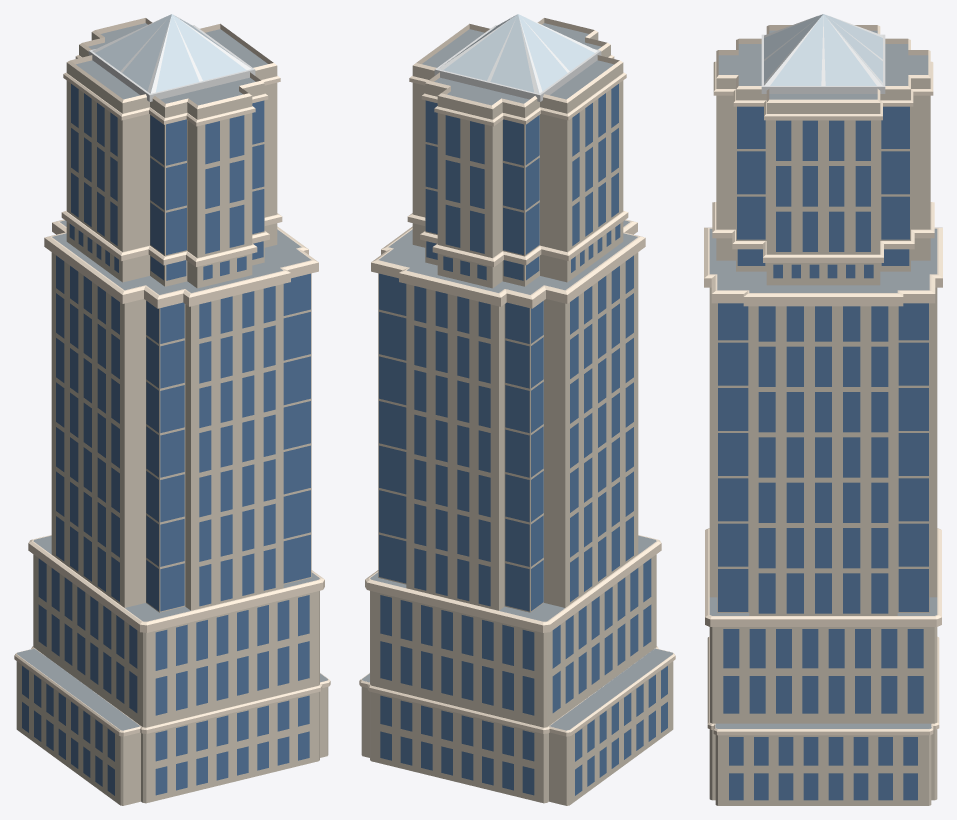
Rendered from clt-bank-of-america-tower.glb.
3 views of the same model, side by side, from view 1: azimuth 30°, elevation 25°; view 2: azimuth 150°, elevation 25°; view 3: azimuth 270°, elevation 25° (orthographic).
Parts seen in each view (by area): view 1: Bank of America Tower; view 2: Bank of America Tower; view 3: Bank of America Tower.
Part boxes in pixels (x1,y1,x2,y2): Bank of America Tower: (14, 14, 330, 805); Bank of America Tower: (359, 14, 675, 805); Bank of America Tower: (704, 14, 942, 805).
Bounding box in the file's own units: 58.5 × 193 × 56.3.
